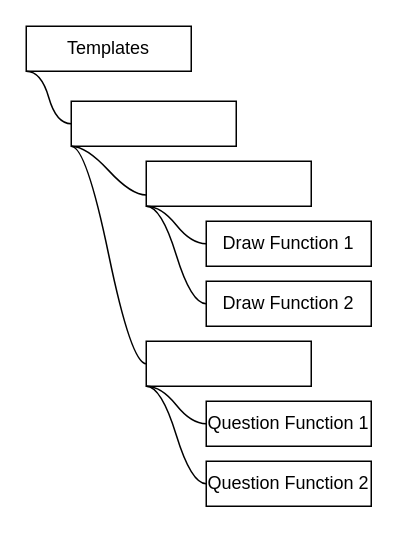
Image size: 398x533. Some labels were removed from this diagram. Here are the shapes that lost their labels. From the top down, the box of each, then its label:
(70, 100, 236, 146): Template 1
(145, 160, 311, 206): Canvas 1
(145, 340, 311, 386): Questions 2
